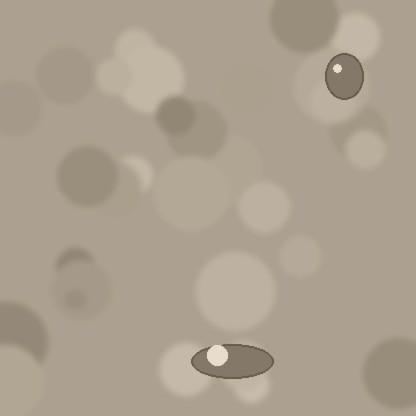gota: (191, 345, 273, 381), (325, 55, 363, 103)
